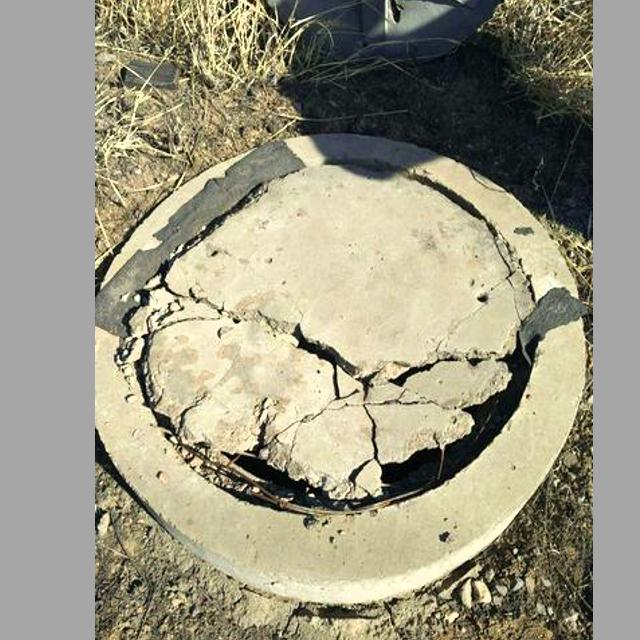broke: (109, 128, 570, 593)
